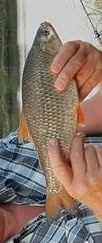Rutilus rutilus: (20, 20, 82, 223)
